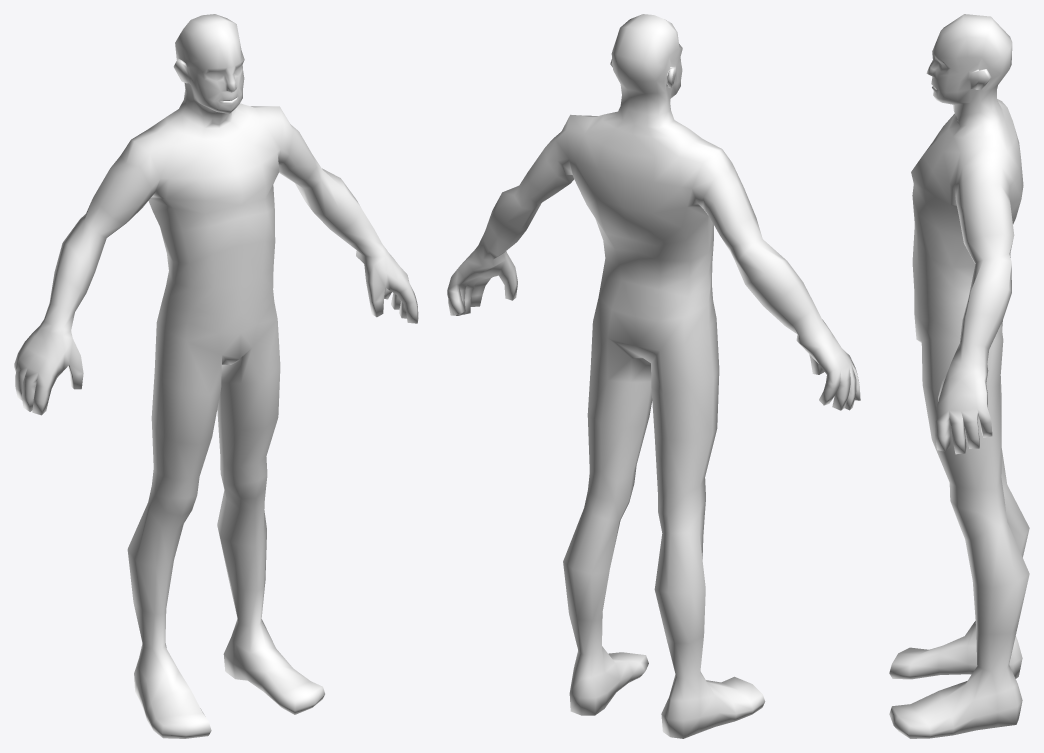
The model's file is Human.obj.
The picture shows the model from 3 angles, left to right: view 1: azimuth 30°, elevation 25°; view 2: azimuth 150°, elevation 25°; view 3: azimuth 270°, elevation 25°; orthographic projection. The views are drawn at different scales.
Visible parts, largest first — view 1: Low_Poly_Characte.000; view 2: Low_Poly_Characte.000; view 3: Low_Poly_Characte.000.
Part boxes in pixels (x1=…): Low_Poly_Characte.000: x1=14, y1=14, x2=418, y2=738; Low_Poly_Characte.000: x1=447, y1=14, x2=860, y2=738; Low_Poly_Characte.000: x1=889, y1=14, x2=1029, y2=738.
Size of the model in its own units: 3.58 by 5.96 by 1.11.
